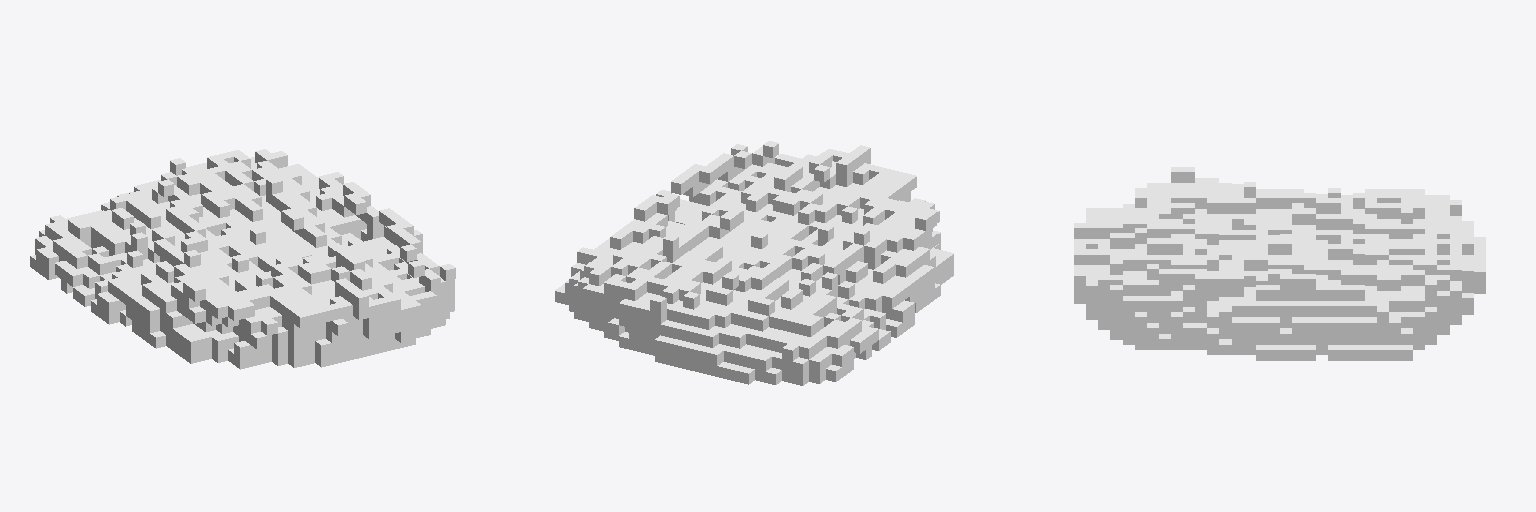
File: DirtMounds-1-DirtMound1.obj
3 renders of one model, left to right at view 1: azimuth 30°, elevation 25°; view 2: azimuth 150°, elevation 25°; view 3: azimuth 270°, elevation 25°, orthographic.
Parts seen in each view (by area): view 1: DirtMound1; view 2: DirtMound1; view 3: DirtMound1.
Part boxes in pixels (x1,y1,x2,y2): DirtMound1: (30, 149, 455, 369); DirtMound1: (555, 141, 953, 385); DirtMound1: (1074, 167, 1485, 360).
Size of the model in its own units: 2.8 by 0.6 by 3.4.